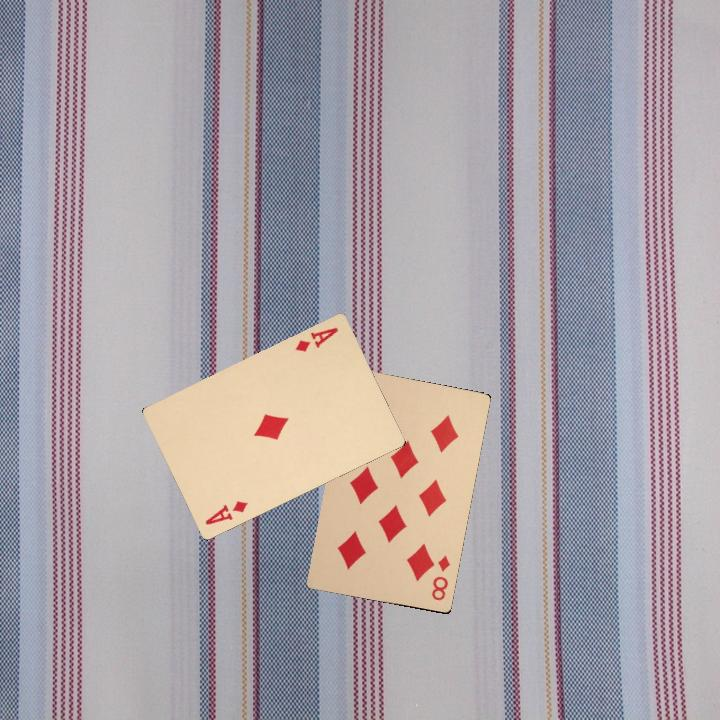8d: (427, 551, 453, 603)
Ad: (291, 323, 341, 355), (201, 496, 250, 528)
